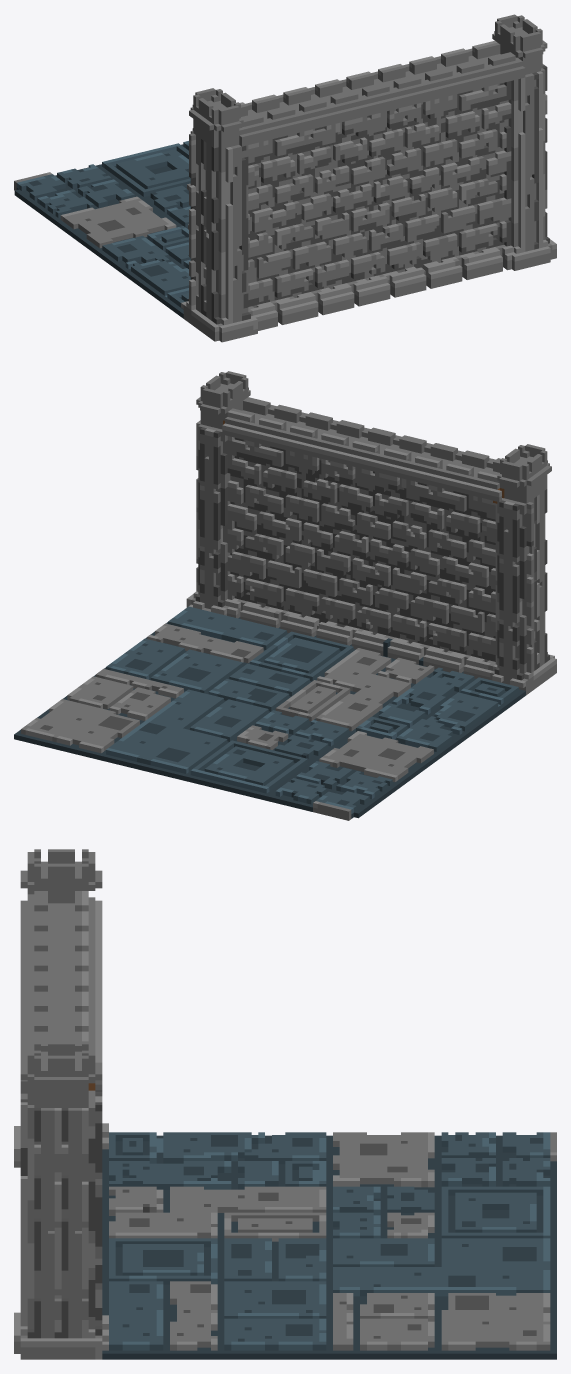
Rendered from wall_E_debajo.obj.
3 views of the same model, one above another, from view 1: azimuth 30°, elevation 25°; view 2: azimuth 150°, elevation 25°; view 3: azimuth 270°, elevation 25° (orthographic). The views are drawn at different scales.
Size of the model in its own units: 76 by 48 by 80.
1 material, 1 textured.
